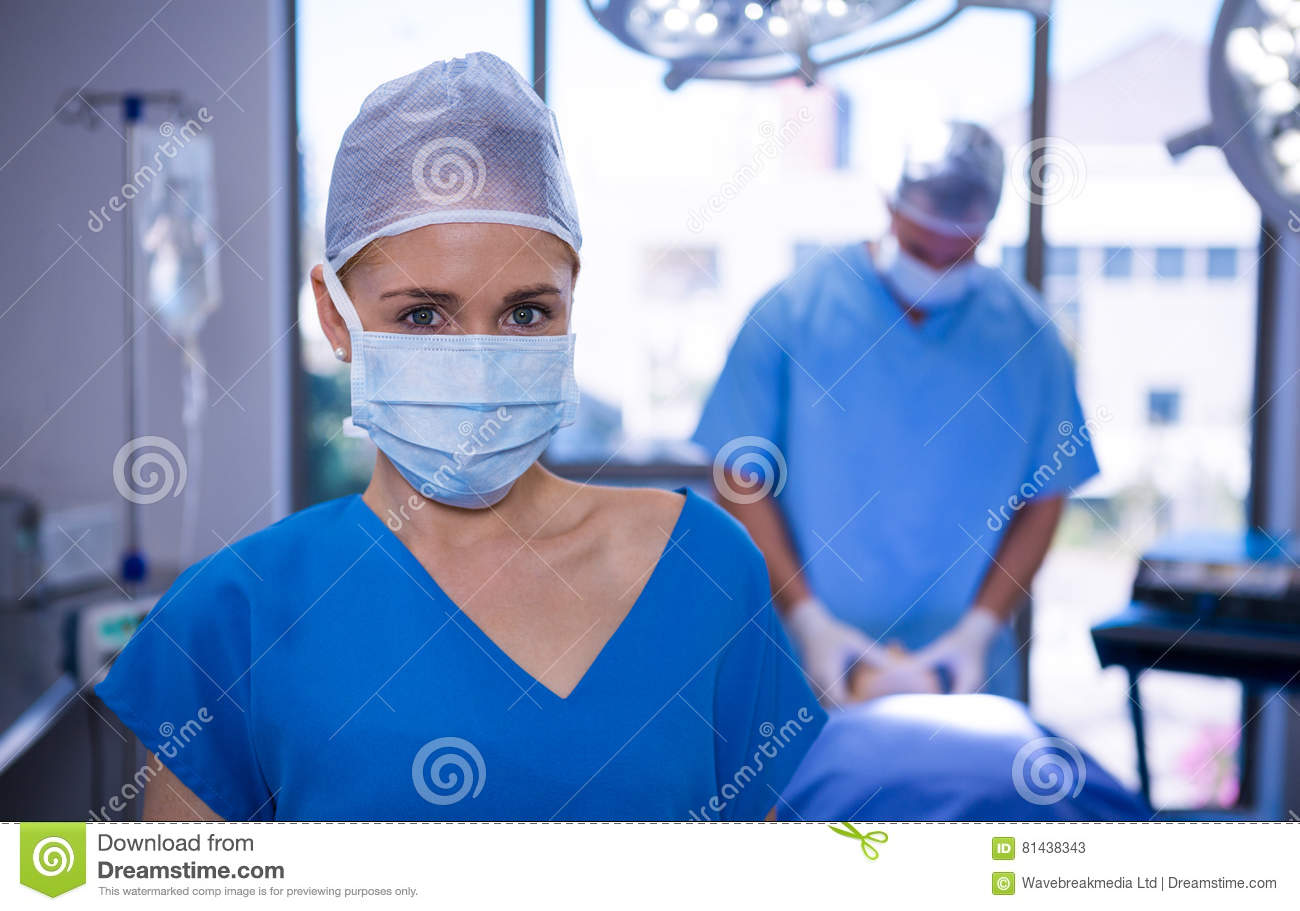mask: (354, 332, 565, 520)
